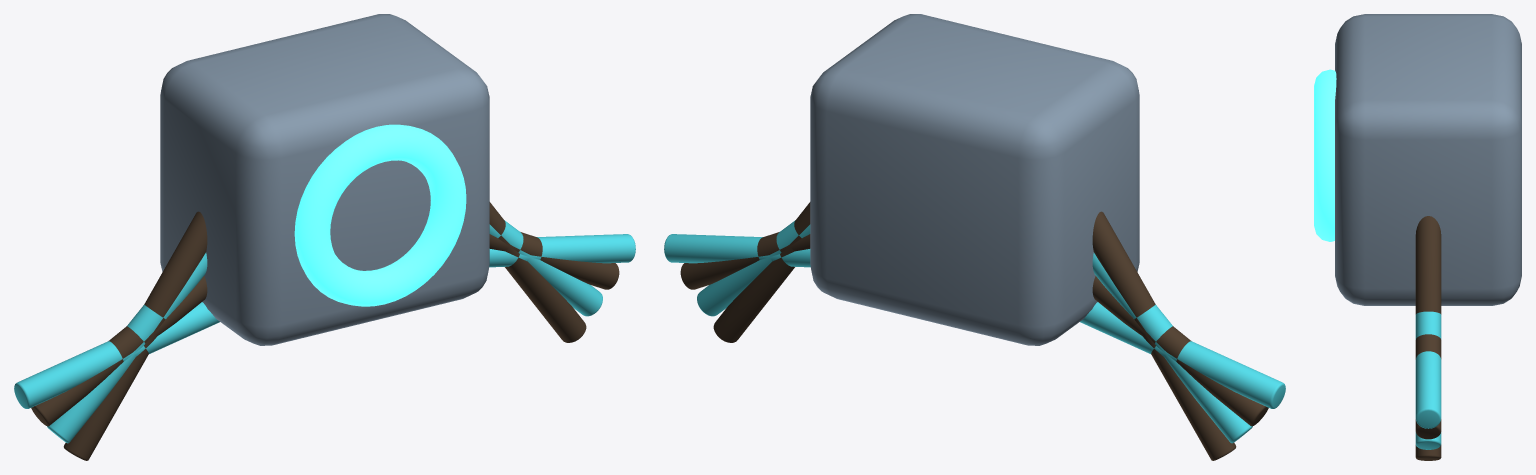
Rendered from construct_v7.glb.
3 renders of one model, left to right at view 1: azimuth 30°, elevation 25°; view 2: azimuth 150°, elevation 25°; view 3: azimuth 270°, elevation 25°, orthographic. The views are drawn at different scales.
Parts seen in each view (by area): view 1: SPIDER_MACHINE_CORE_PRIMARY, MACHINE_GEAR_EMISSIVE, MACHINE_LEG_SECONDARY, MACHINE_LEG_ACCENT.002, MACHINE_LEG_ACCENT, MACHINE_LEG_SECONDARY.001, MACHINE_LEG_ACCENT.003, MACHINE_LEG_SECONDARY.002, MACHINE_LEG_ACCENT.001, MACHINE_LEG_SECONDARY.003; view 2: SPIDER_MACHINE_CORE_PRIMARY, MACHINE_LEG_SECONDARY, MACHINE_LEG_ACCENT.002, MACHINE_LEG_ACCENT, MACHINE_LEG_SECONDARY.001, MACHINE_LEG_ACCENT.003, MACHINE_LEG_SECONDARY.002, MACHINE_LEG_ACCENT.001, MACHINE_LEG_SECONDARY.003; view 3: SPIDER_MACHINE_CORE_PRIMARY, MACHINE_GEAR_EMISSIVE, MACHINE_LEG_SECONDARY.001, MACHINE_LEG_ACCENT.003, MACHINE_LEG_ACCENT.001, MACHINE_LEG_SECONDARY.003.
Boxes of the visible parts, box(x1,y1,x2,y2) form: SPIDER_MACHINE_CORE_PRIMARY: box(160, 14, 489, 345); MACHINE_GEAR_EMISSIVE: box(294, 124, 466, 306); MACHINE_LEG_SECONDARY: box(63, 211, 207, 460); MACHINE_LEG_ACCENT.002: box(14, 302, 219, 408); MACHINE_LEG_ACCENT: box(47, 253, 207, 443); MACHINE_LEG_SECONDARY.001: box(489, 202, 586, 342); MACHINE_LEG_ACCENT.003: box(489, 234, 635, 267); MACHINE_LEG_SECONDARY.002: box(31, 276, 207, 426); MACHINE_LEG_ACCENT.001: box(489, 220, 602, 316); MACHINE_LEG_SECONDARY.003: box(489, 232, 619, 289); SPIDER_MACHINE_CORE_PRIMARY: box(810, 14, 1139, 345); MACHINE_LEG_SECONDARY: box(1092, 211, 1236, 460); MACHINE_LEG_ACCENT.002: box(1080, 302, 1285, 408); MACHINE_LEG_ACCENT: box(1092, 253, 1252, 443); MACHINE_LEG_SECONDARY.001: box(713, 202, 810, 342); MACHINE_LEG_ACCENT.003: box(664, 234, 810, 267); MACHINE_LEG_SECONDARY.002: box(1092, 276, 1268, 426); MACHINE_LEG_ACCENT.001: box(697, 220, 810, 316); MACHINE_LEG_SECONDARY.003: box(680, 232, 810, 289); SPIDER_MACHINE_CORE_PRIMARY: box(1335, 14, 1521, 305); MACHINE_GEAR_EMISSIVE: box(1314, 69, 1336, 241); MACHINE_LEG_SECONDARY.001: box(1415, 216, 1441, 460); MACHINE_LEG_ACCENT.003: box(1415, 351, 1441, 428); MACHINE_LEG_ACCENT.001: box(1415, 311, 1441, 449); MACHINE_LEG_SECONDARY.003: box(1415, 334, 1441, 439).
Bounding box in the file's own units: 2.1 × 1.1 × 0.6942.
